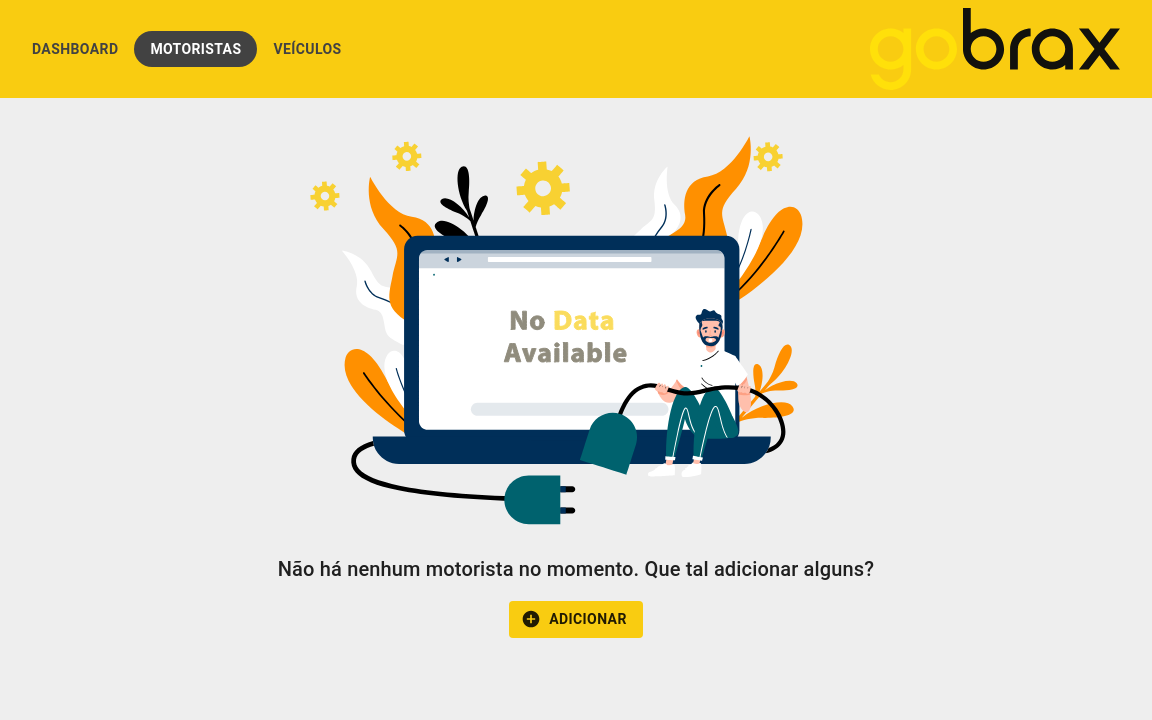
Test case: Cars Page › should open the form modal when Add button is clicked
The image size is (1152, 720).
Click the button "Adicionar" at coordinates (576, 620), box [509,601,643,638]
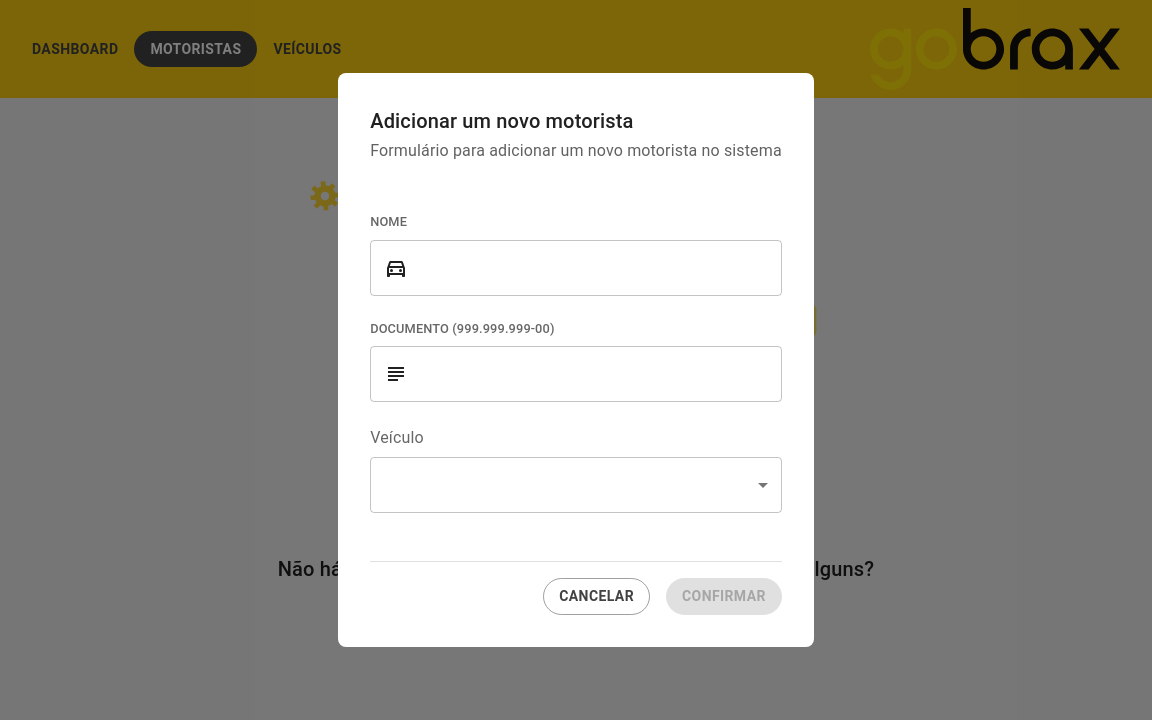
Expected: the element with test id "modal-add-car" is shown
